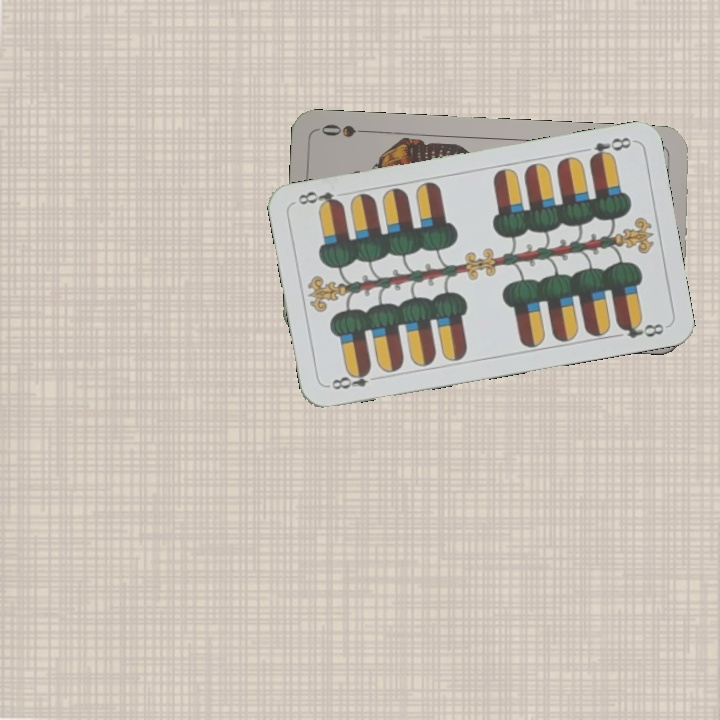E8: (324, 365, 383, 392), (585, 133, 634, 164)
